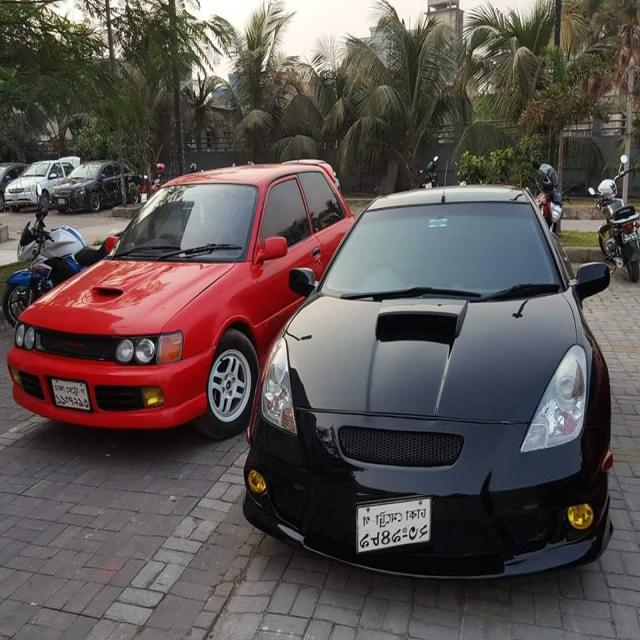numberplate: (356, 495, 433, 554), (48, 376, 90, 411)
